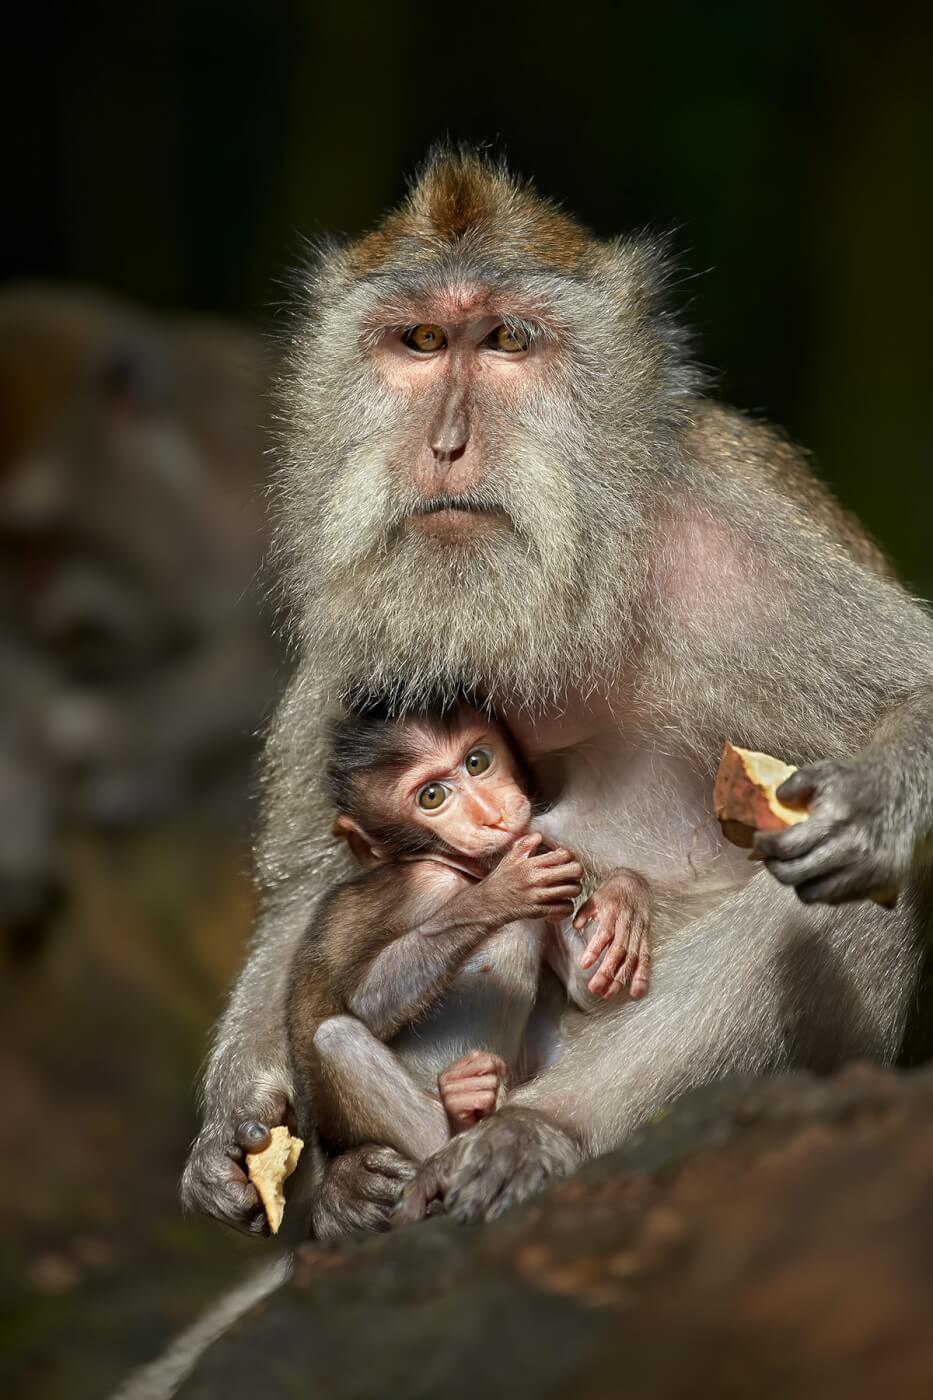monkey_body: (309, 361, 898, 1231), (292, 891, 687, 1193)
monkey_face: (249, 195, 694, 718), (292, 678, 564, 869)
